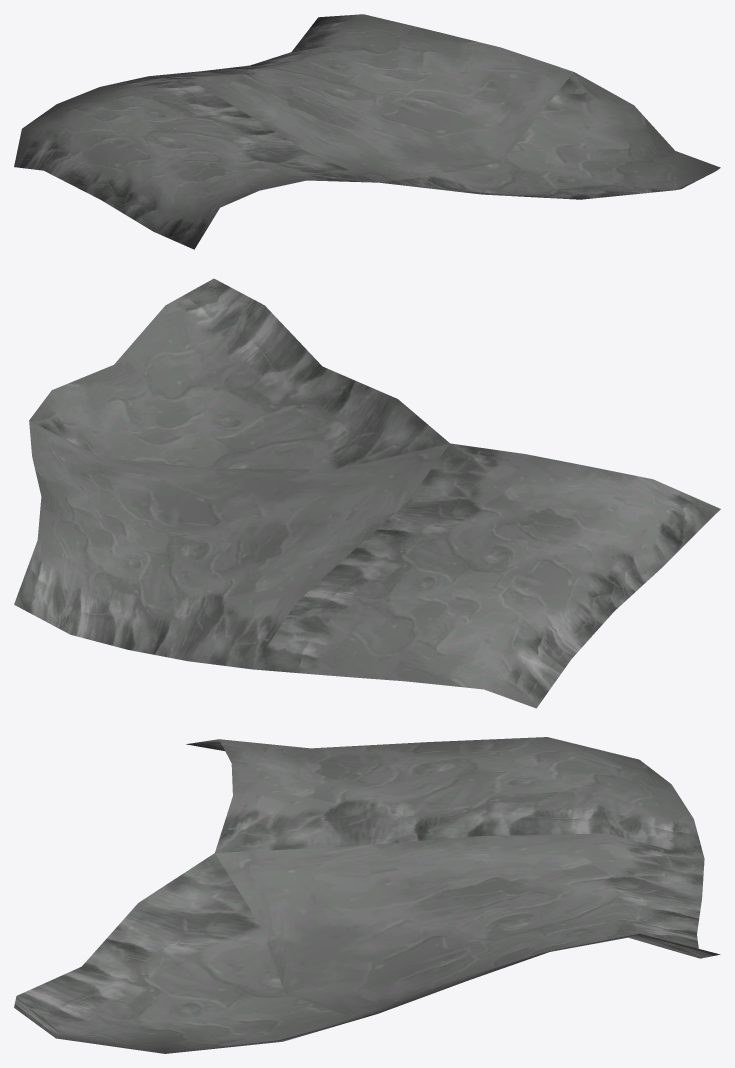
File: SWORDLIGHT20_PS-AREA03_134.fbx
3 renders of one model, top to bottom at view 1: azimuth 30°, elevation 25°; view 2: azimuth 150°, elevation 25°; view 3: azimuth 270°, elevation 25°, orthographic. The views are drawn at different scales.
Parts seen in each view (by area): view 1: SWORDLIGHT20_PS-AREA03_134; view 2: SWORDLIGHT20_PS-AREA03_134; view 3: SWORDLIGHT20_PS-AREA03_134.
Boxes of the visible parts, x1=… form: SWORDLIGHT20_PS-AREA03_134: x1=14, y1=14, x2=720, y2=249; SWORDLIGHT20_PS-AREA03_134: x1=14, y1=278, x2=720, y2=708; SWORDLIGHT20_PS-AREA03_134: x1=14, y1=737, x2=720, y2=1053.
Bounding box in the file's own units: 133138 × 14352 × 128257.
2 materials, 2 textured.
